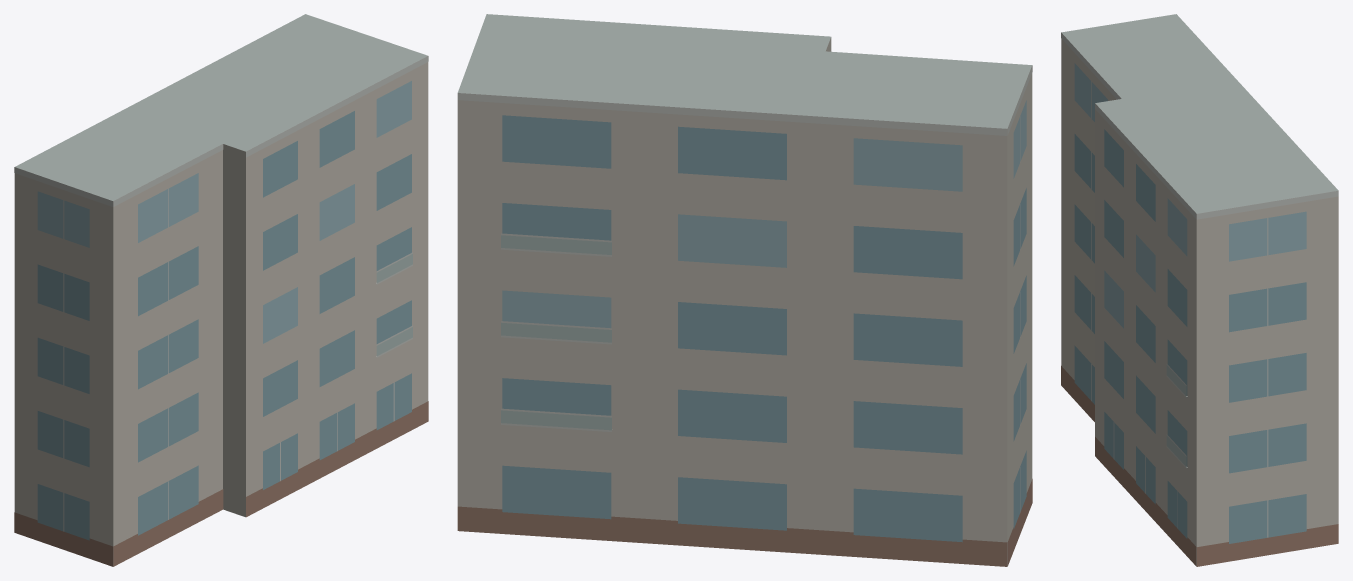
Rendered from survey-upis-32924718.glb.
3 views of the same model, side by side, from view 1: azimuth 30°, elevation 25°; view 2: azimuth 150°, elevation 25°; view 3: azimuth 270°, elevation 25° (orthographic). The views are drawn at different scales.
Parts seen in each view (by area): view 1: survey-upis-32924718.tmp; view 2: survey-upis-32924718.tmp; view 3: survey-upis-32924718.tmp.
Part boxes in pixels (bbox=[...]): survey-upis-32924718.tmp: bbox=[14, 14, 428, 566]; survey-upis-32924718.tmp: bbox=[457, 14, 1032, 566]; survey-upis-32924718.tmp: bbox=[1061, 14, 1338, 566].
Bounding box in the file's own units: 18.1 × 14.9 × 10.63.
